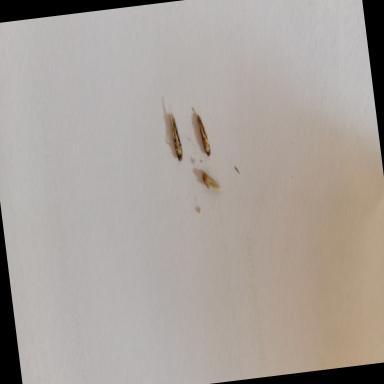pbw: (168, 115, 186, 166), (194, 112, 211, 160), (200, 166, 220, 190)
